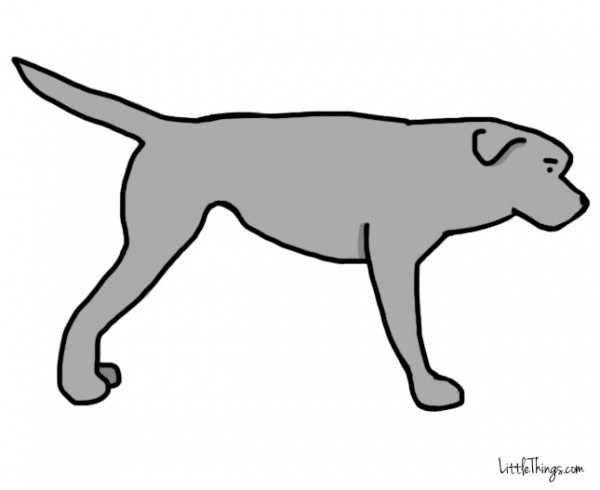tail: (6, 51, 177, 147)
